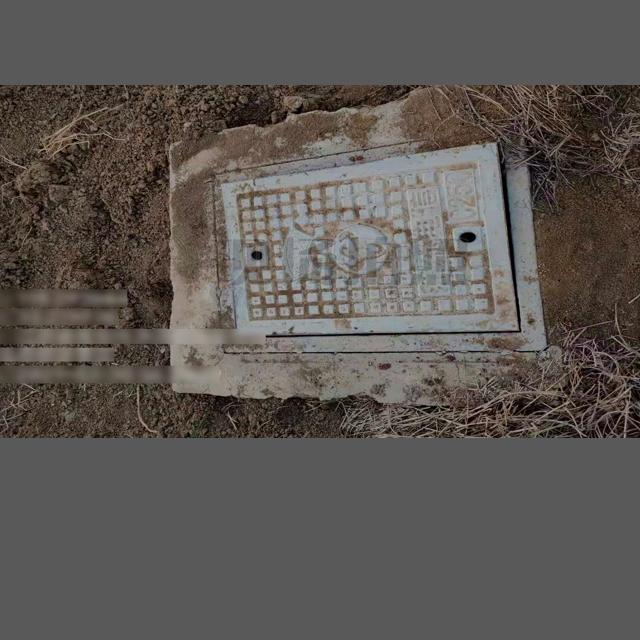uncovered: (207, 135, 571, 348)
